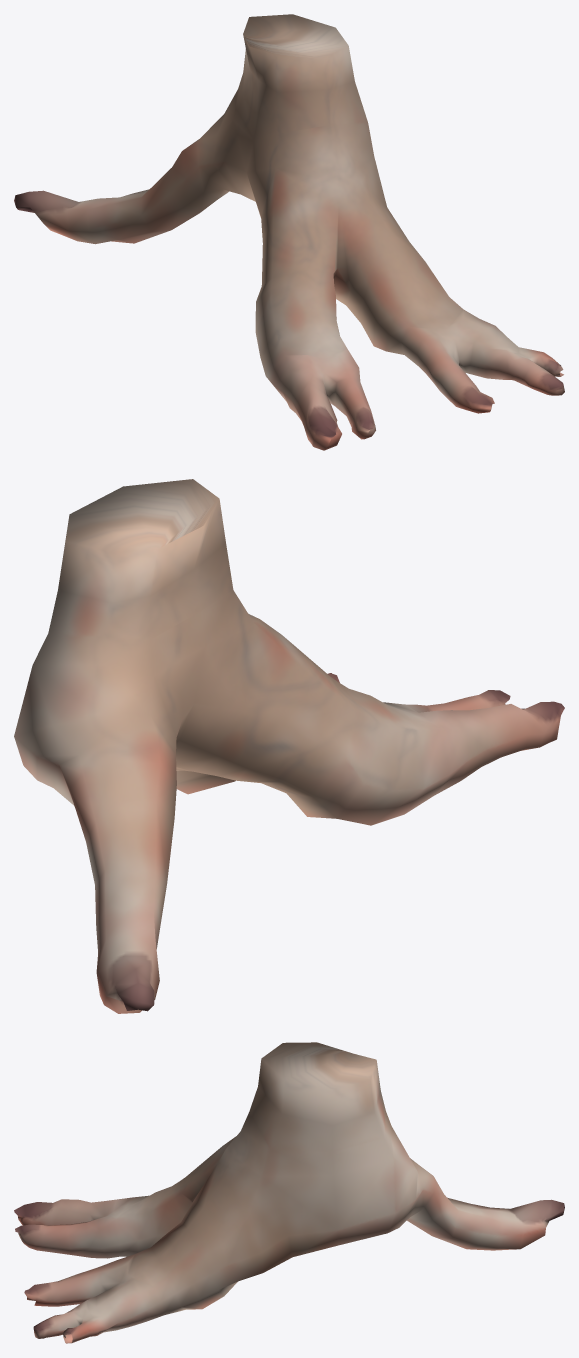
File: FootL.fbx
The picture shows the model from 3 angles, top to bottom: view 1: azimuth 30°, elevation 25°; view 2: azimuth 150°, elevation 25°; view 3: azimuth 270°, elevation 25°; orthographic projection. The views are drawn at different scales.
Visible parts, largest first — view 1: UmeriCraci_low.003; view 2: UmeriCraci_low.003; view 3: UmeriCraci_low.003.
Part boxes in pixels (left/top/right/bottom): UmeriCraci_low.003: left=14, top=14, right=564, bottom=450; UmeriCraci_low.003: left=14, top=479, right=564, bottom=1013; UmeriCraci_low.003: left=14, top=1042, right=564, bottom=1343.
Bounding box in the file's own units: 36.19 × 34.91 × 73.21.
